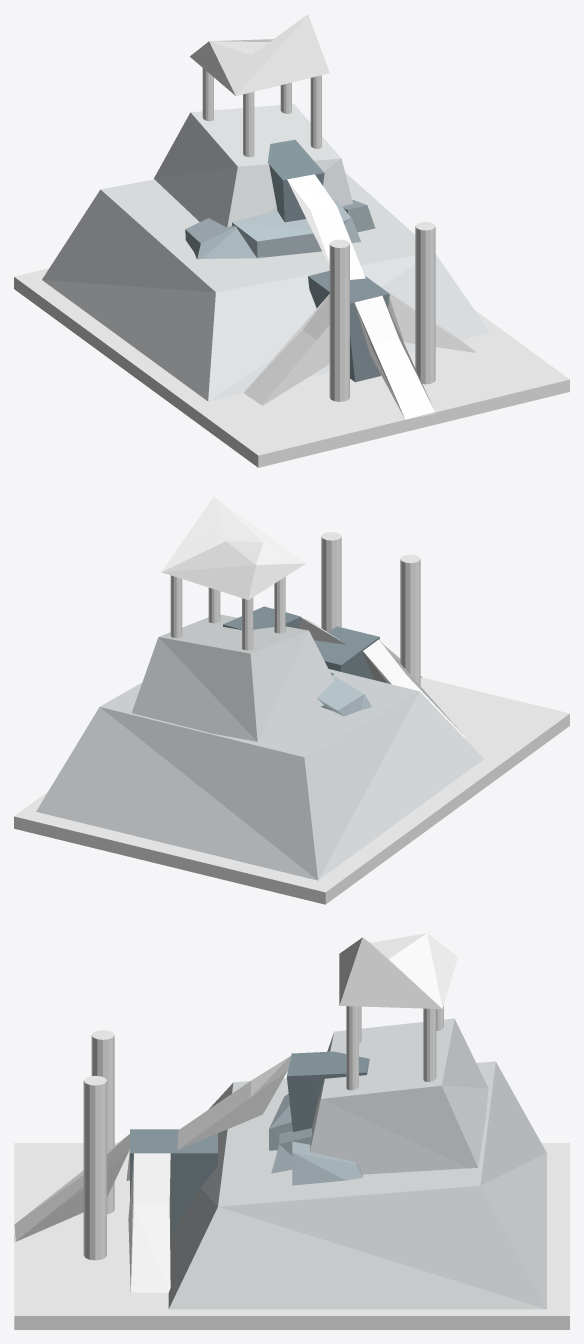
File: ZIGGA2.fbx
The picture shows the model from 3 angles, top to bottom: view 1: azimuth 30°, elevation 25°; view 2: azimuth 150°, elevation 25°; view 3: azimuth 270°, elevation 25°; orthographic projection. The views are drawn at different scales.
Parts seen in each view (by area): view 1: ZIG; view 2: ZIG; view 3: ZIG.
Boxes of the visible parts, box(x1,y1,x2,y2) form: ZIG: box(14, 14, 569, 467); ZIG: box(14, 496, 569, 904); ZIG: box(14, 933, 569, 1329).
Size of the model in its own units: 53 by 72.05 by 47.5.
